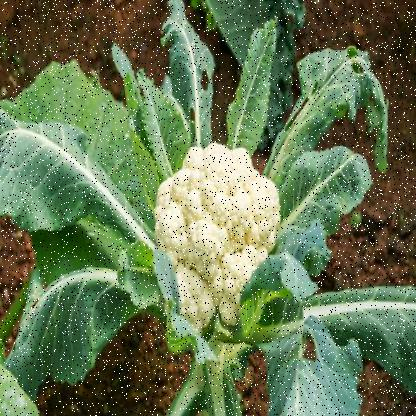cauliflower: (145, 142, 282, 327)
